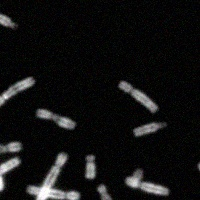chromosome: (35, 152, 67, 200), (0, 77, 35, 120), (118, 81, 157, 112), (126, 176, 169, 196), (26, 185, 81, 200), (36, 109, 75, 130), (0, 156, 23, 185), (133, 121, 167, 137), (0, 8, 16, 29), (84, 155, 96, 179), (0, 142, 22, 153), (131, 169, 143, 188), (98, 185, 112, 200), (0, 167, 4, 200), (198, 160, 200, 200)
